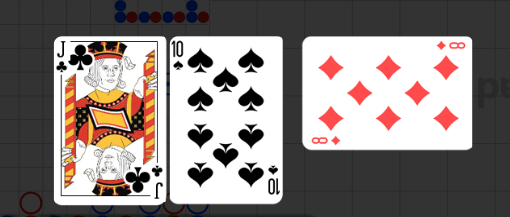10S: (267, 163, 281, 196)
8D: (434, 40, 466, 52)
JC: (54, 40, 69, 75)
